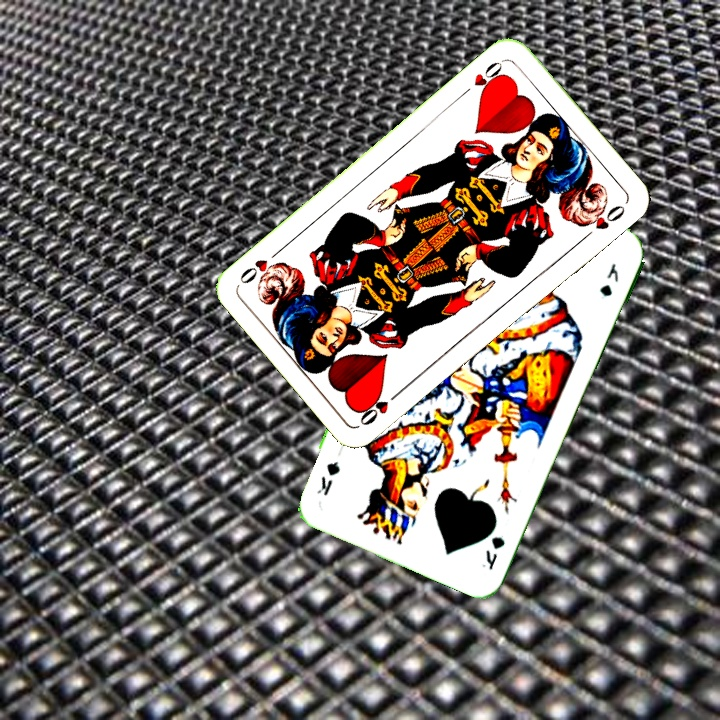GK: (477, 532, 508, 573)
HO: (457, 56, 508, 99), (355, 385, 405, 428)
